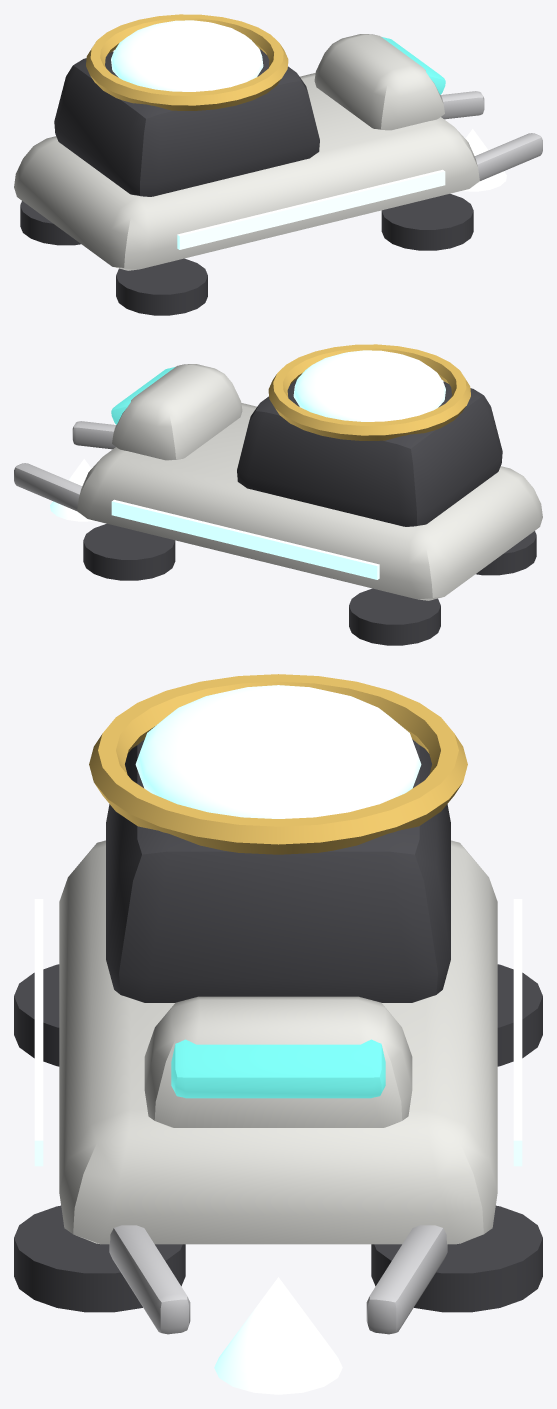
Rendered from rob_harvester.glb.
3 renders of one model, top to bottom at view 1: azimuth 30°, elevation 25°; view 2: azimuth 150°, elevation 25°; view 3: azimuth 270°, elevation 25°, orthographic. The views are drawn at different scales.
Visible parts, largest first — view 1: rob_harvester; view 2: rob_harvester; view 3: rob_harvester.
Boxes of the visible parts, x1,y1,x2,y2 form: rob_harvester: (14, 14, 542, 315); rob_harvester: (14, 344, 542, 645); rob_harvester: (14, 674, 542, 1394).
Bounding box in the file's own units: 1.35 × 0.611 × 0.74.
